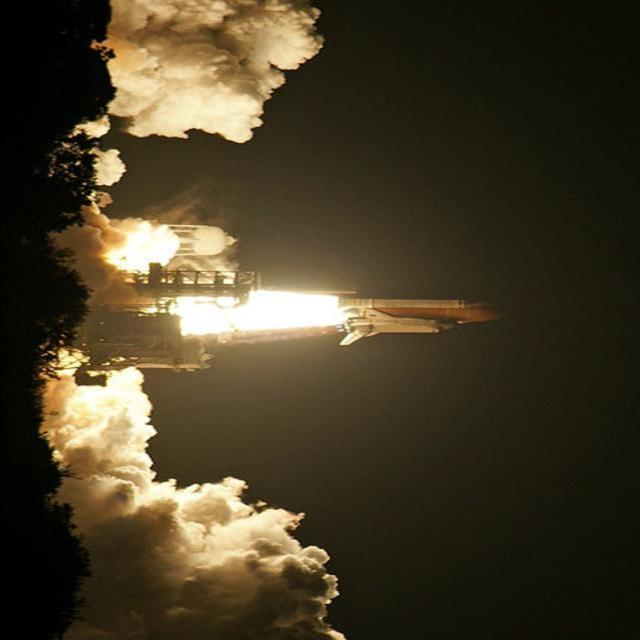missile: (334, 295, 502, 350)
